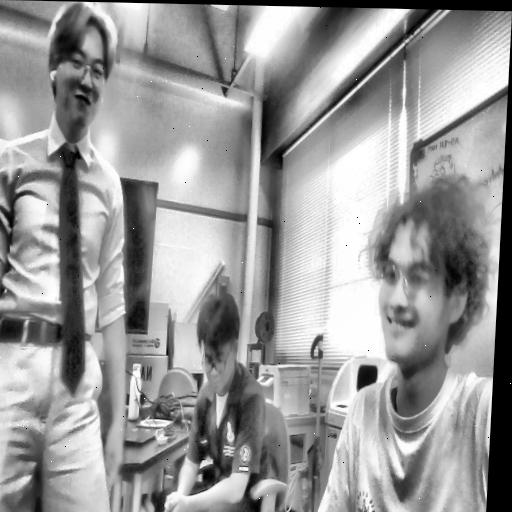Daifuku: (357, 177, 500, 373)
Not Daifuku: (41, 1, 121, 124), (197, 290, 242, 391)
